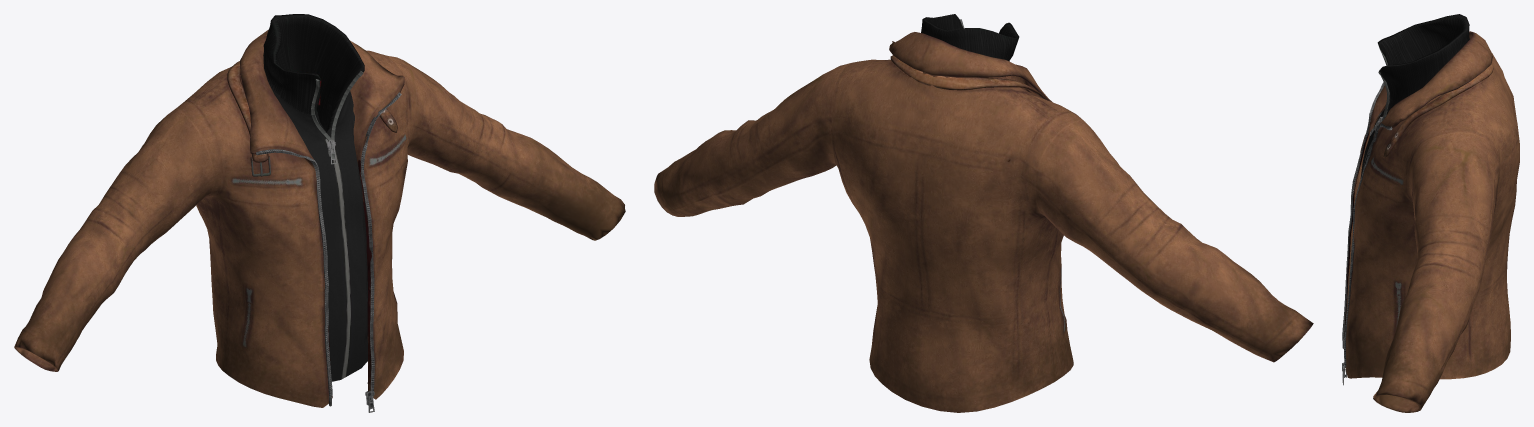
3 renders of one model, left to right at view 1: azimuth 30°, elevation 25°; view 2: azimuth 150°, elevation 25°; view 3: azimuth 270°, elevation 25°, orthographic. The views are drawn at different scales.
Visible parts, largest first — view 1: belt; view 2: belt; view 3: belt.
Part boxes in pixels (left/top/right/bottom): belt: left=14, top=14, right=625, bottom=412; belt: left=654, top=14, right=1313, bottom=412; belt: left=1342, top=14, right=1519, bottom=412.
Size of the model in its own units: 553 by 315 by 145.
5 materials, 5 textured.
